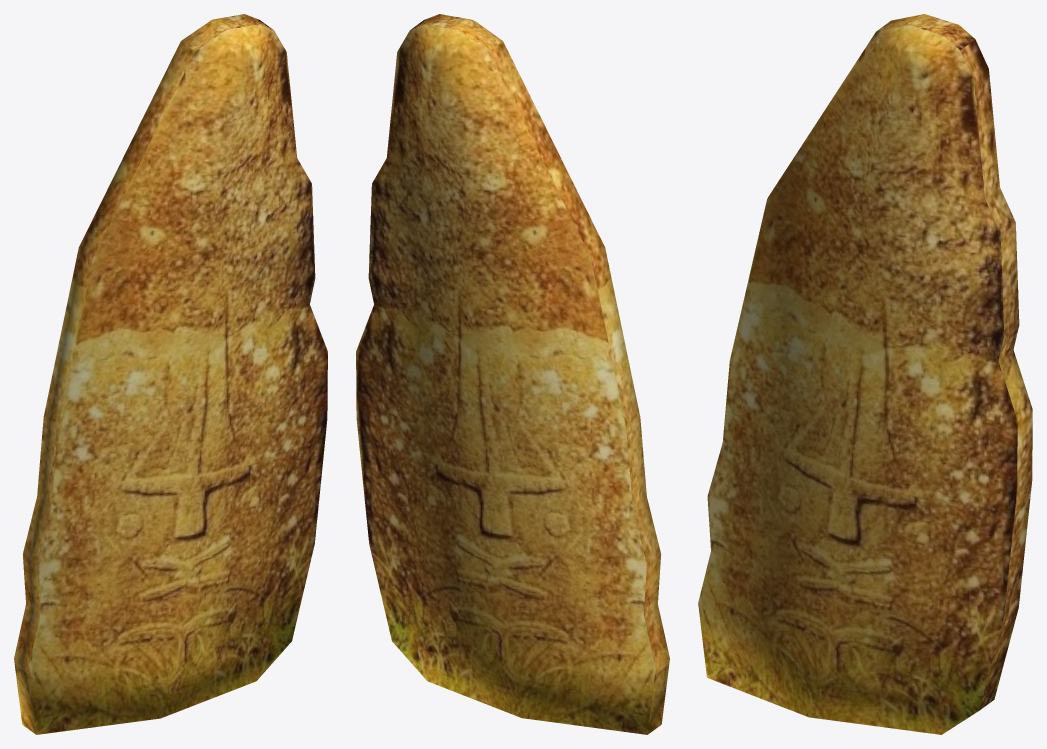
Rendered from Rock8.FBX.
3 renders of one model, left to right at view 1: azimuth 30°, elevation 25°; view 2: azimuth 150°, elevation 25°; view 3: azimuth 330°, elevation 25°, orthographic. The views are drawn at different scales.
Parts seen in each view (by area): view 1: 8Rock; view 2: 8Rock; view 3: 8Rock.
Boxes of the visible parts, bbox=[...] form: 8Rock: bbox=[14, 14, 327, 734]; 8Rock: bbox=[356, 14, 669, 734]; 8Rock: bbox=[698, 14, 1032, 734].
Size of the model in its own units: 4.07 by 8.54 by 1.
